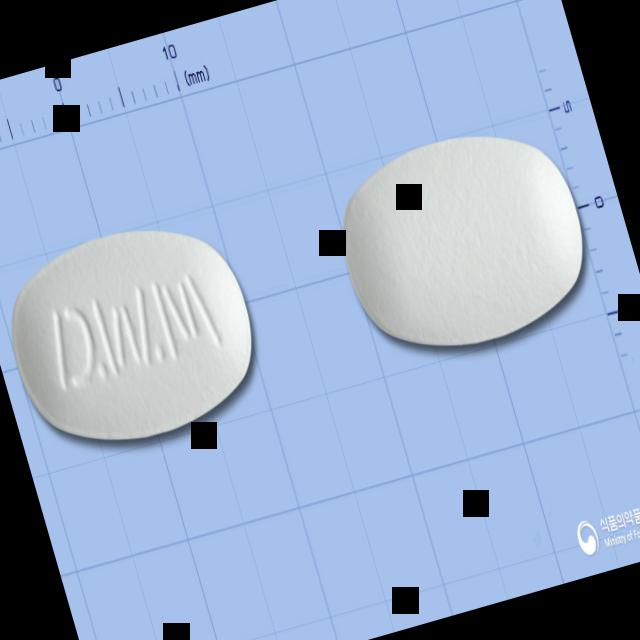Clar - 500mg: (320, 108, 604, 372), (0, 202, 275, 468)
